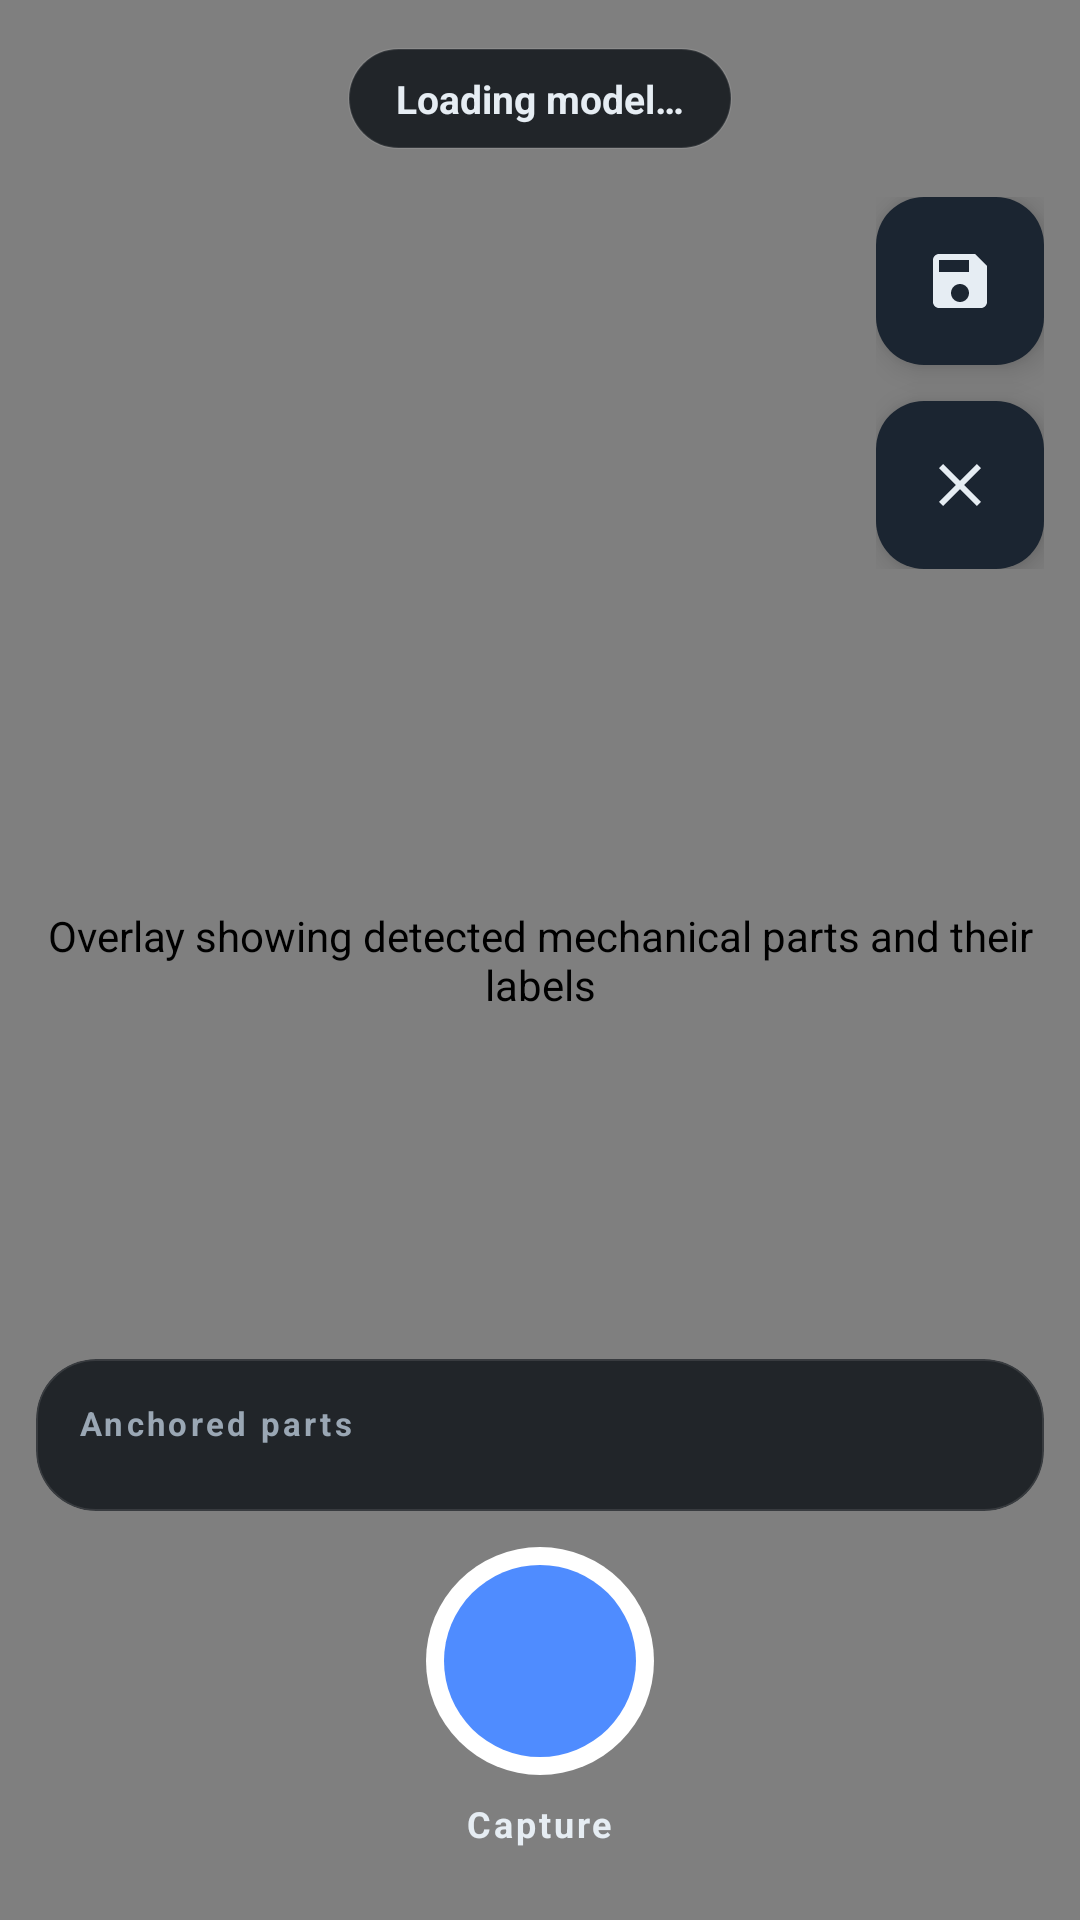

Point at icon controls on the screen. Image size 1080w x 1920h, points as point (x, y).
Clear: point (960, 485)
Save session: point (960, 281)
